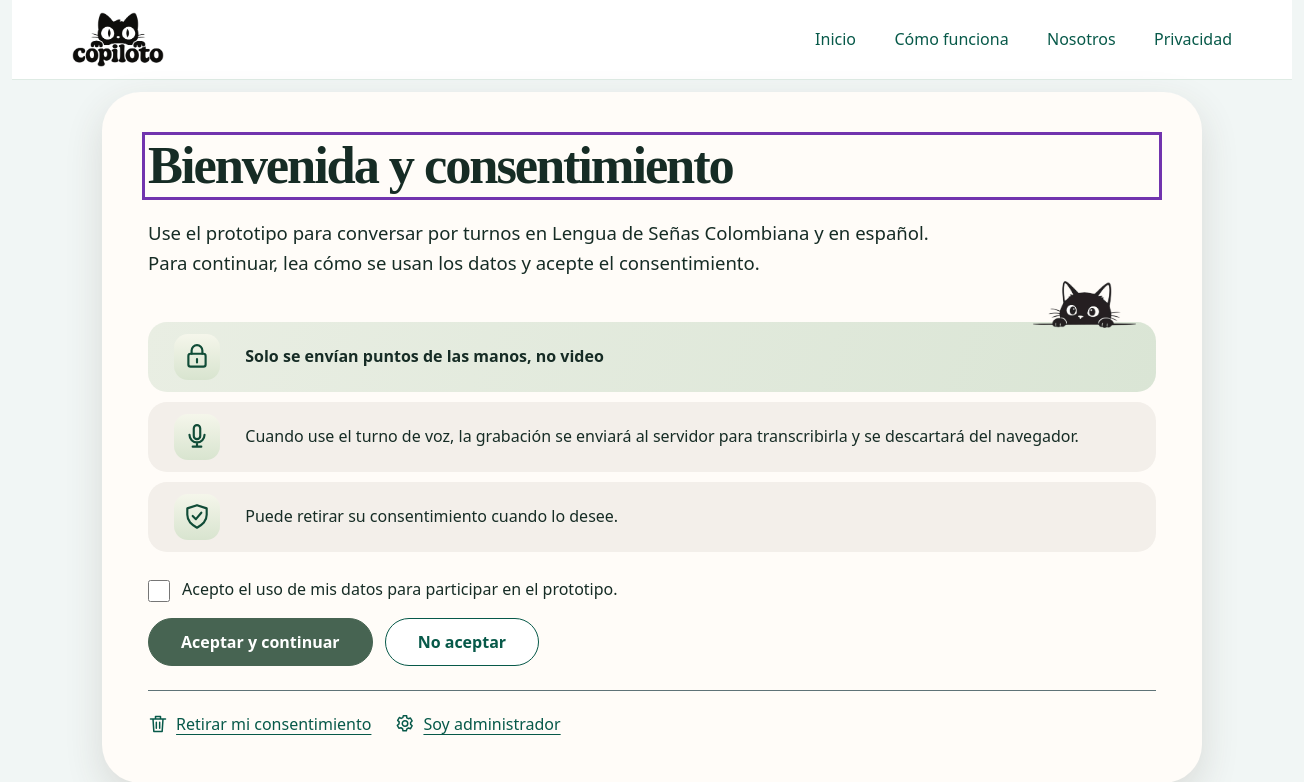
it: muestra un error de consentimiento del servidor y permite volver a enviar
The width and height of the screenshot is (1304, 782).
Click the checkbox labelled "Acepto el uso de mis datos para participar en el prototipo.": [159, 591] box [148,580,170,602]
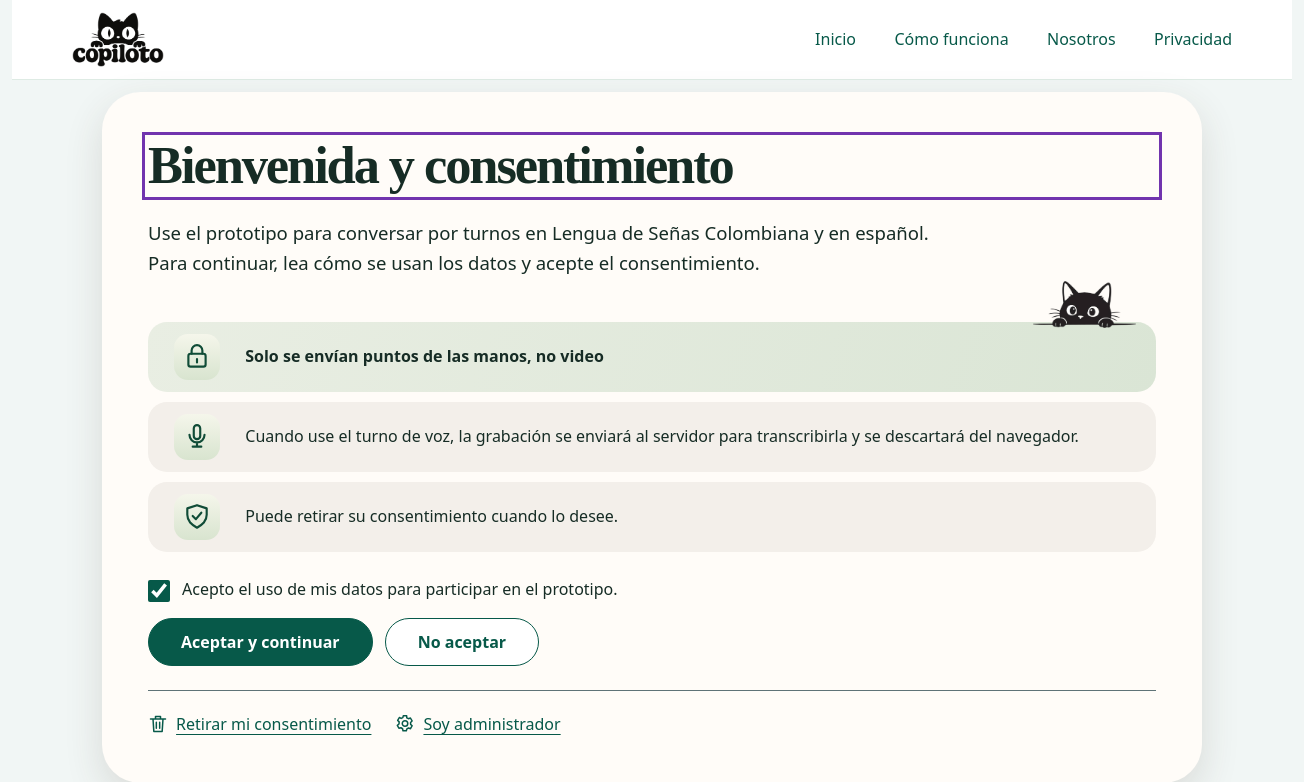
Click the button "Aceptar y continuar": [260, 642] box [148,618,373,666]
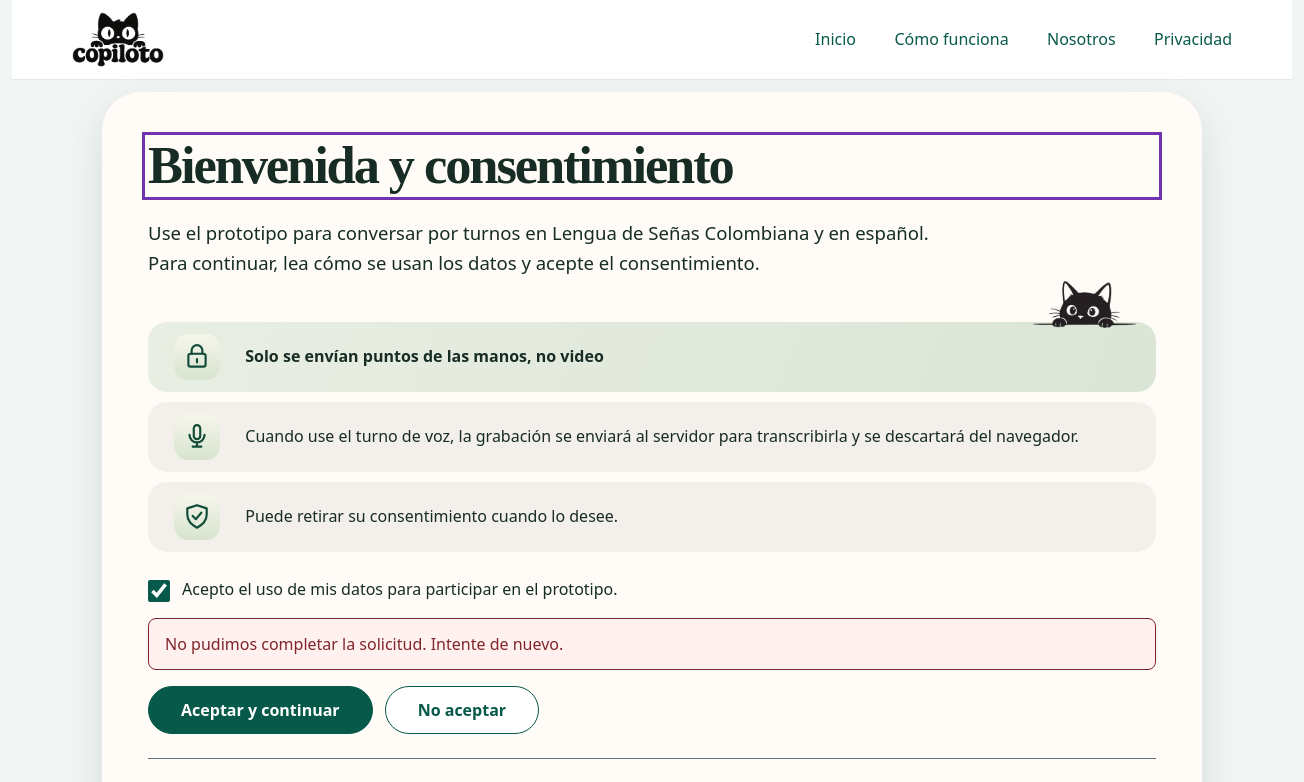
Expected: the message reads "No pudimos completar la solicitud. Intente de nuevo.", [165,633,563,655]
Click the button "Aceptar y continuar": [260, 710] box [148,686,373,734]
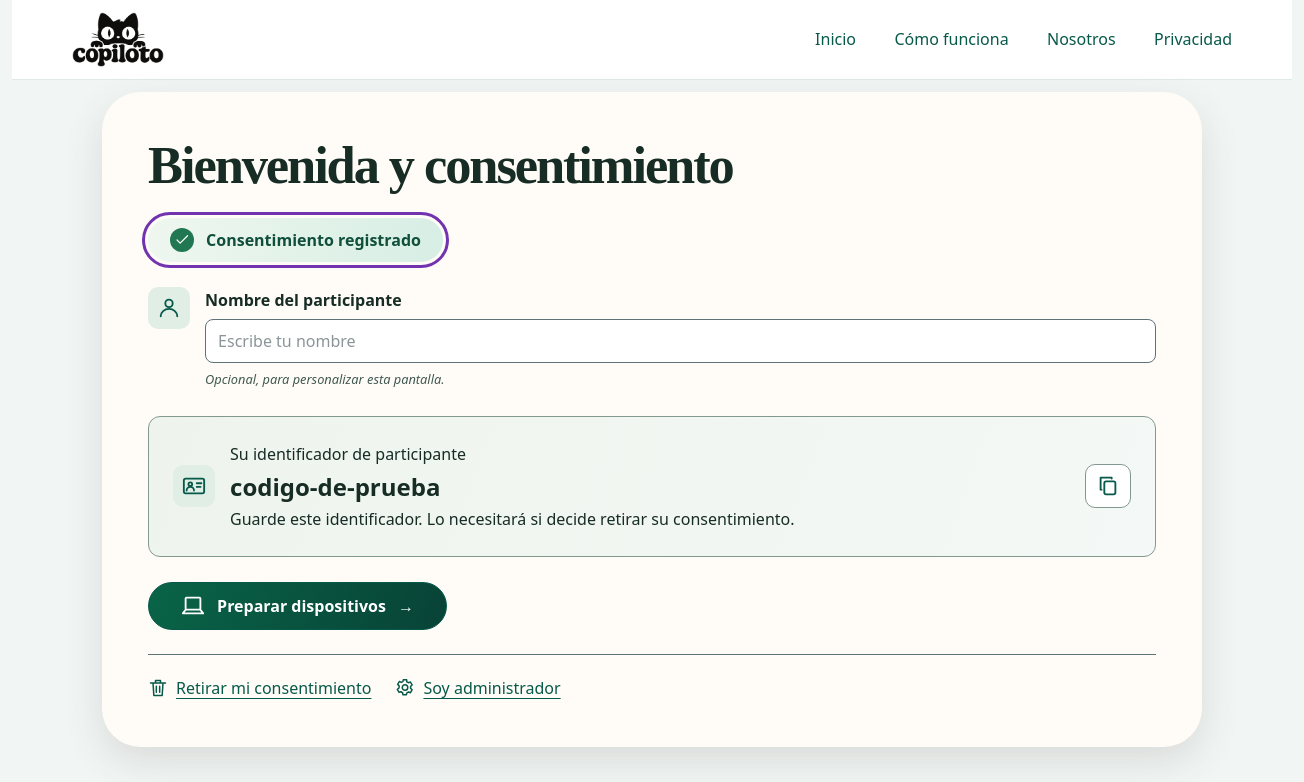
Expected: the text "codigo-de-prueba" is shown, [230,470,440,503]
